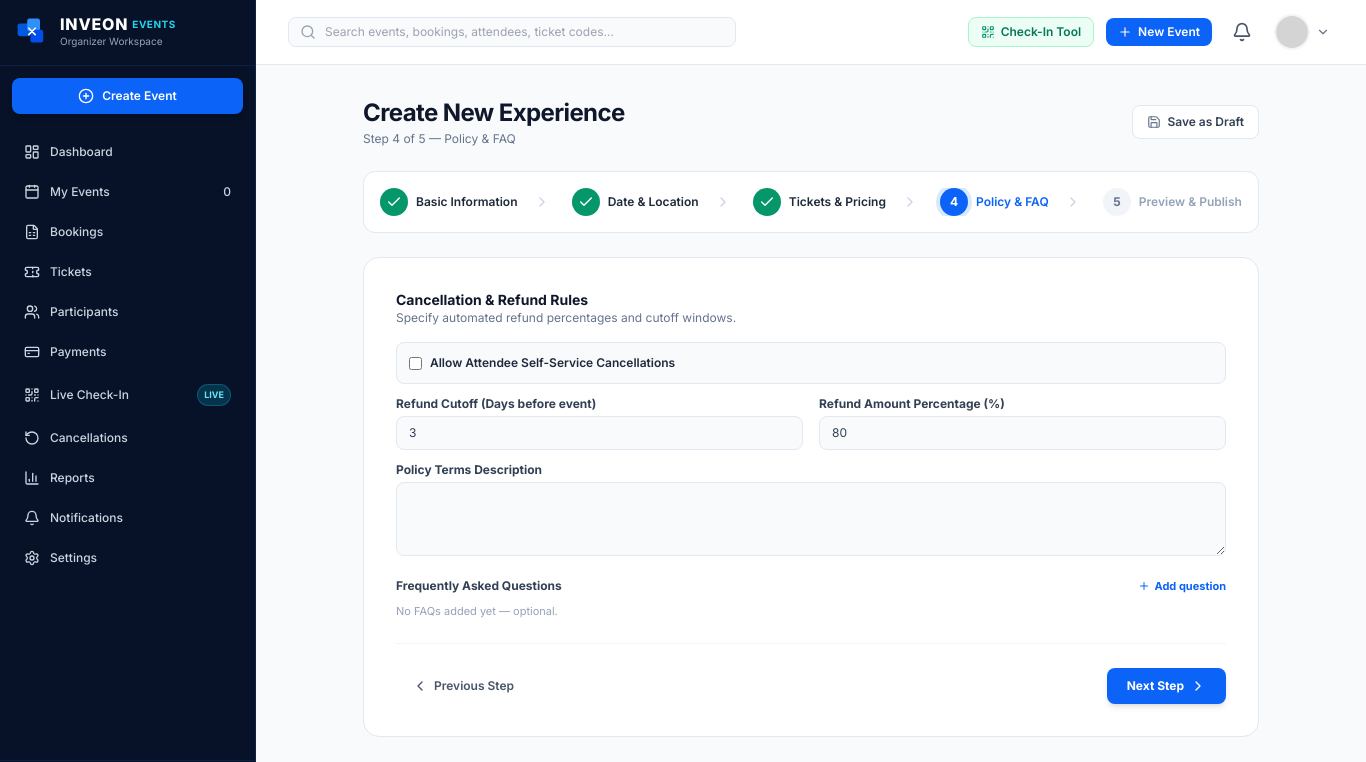
CreateEvent: schedule, packing checklist, and FAQ › adds an FAQ question/answer pair on the Policy & FAQ step
Click the button "Add question". click: x=1182, y=586
box: [1138,578,1226,594]
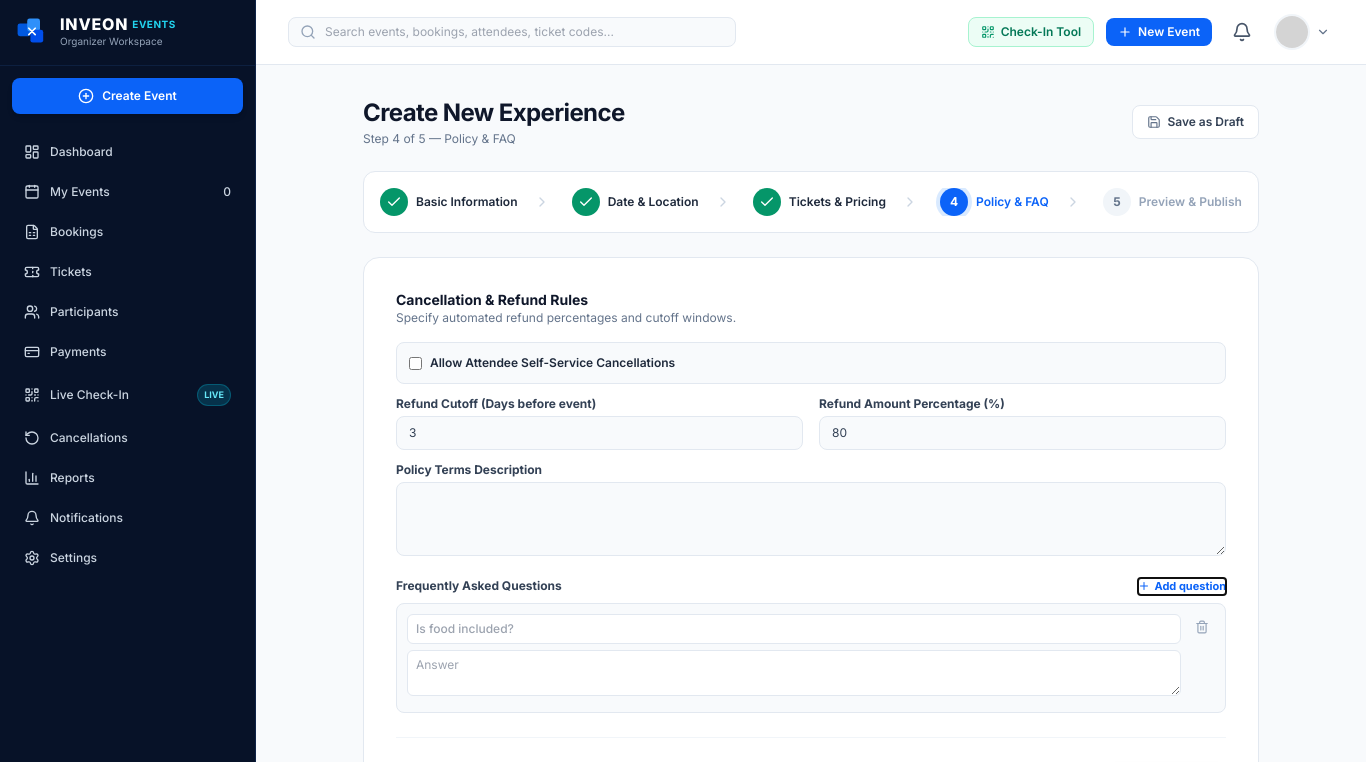
Type "Is transport included?" into the field with placeholder "Is food included?". click: x=794, y=628
box: [407,614,1181,644]
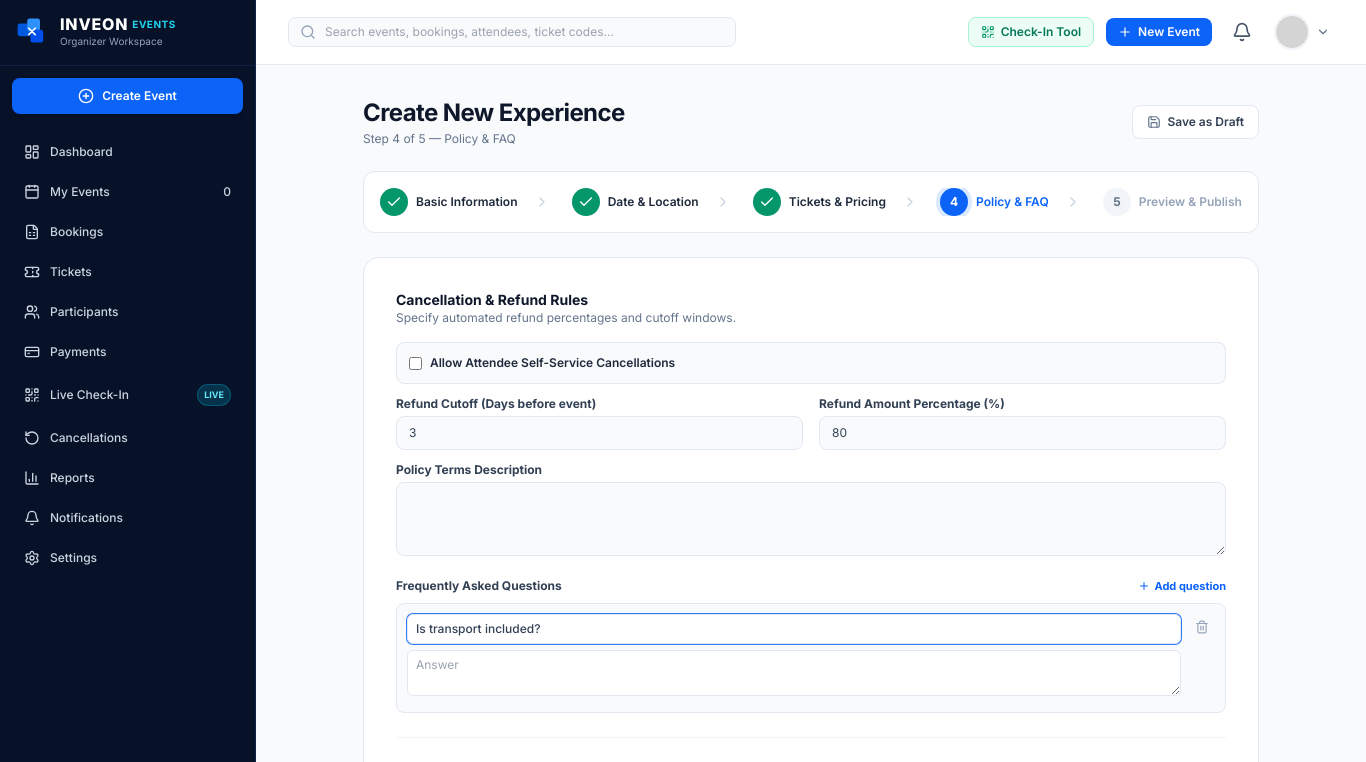
Click the button named "remove question". click: x=1202, y=626
box: [1189,614,1215,640]
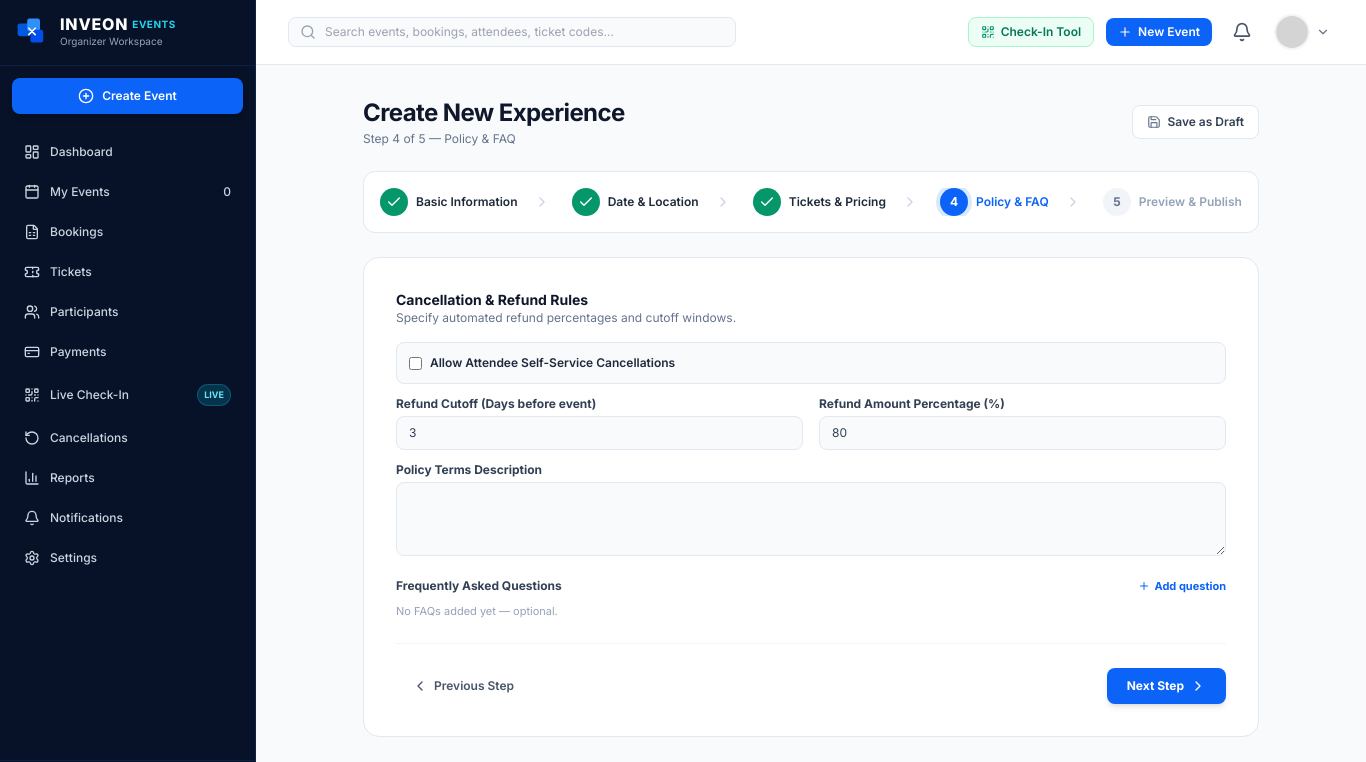
Now the text "No FAQs added yet — optional." is shown, box [396,604,558,618]
